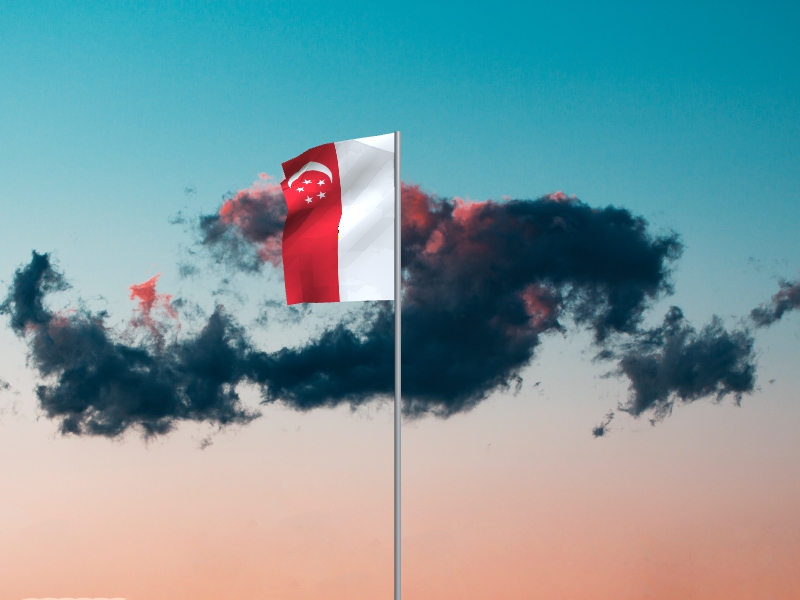sg: (280, 133, 395, 306)
